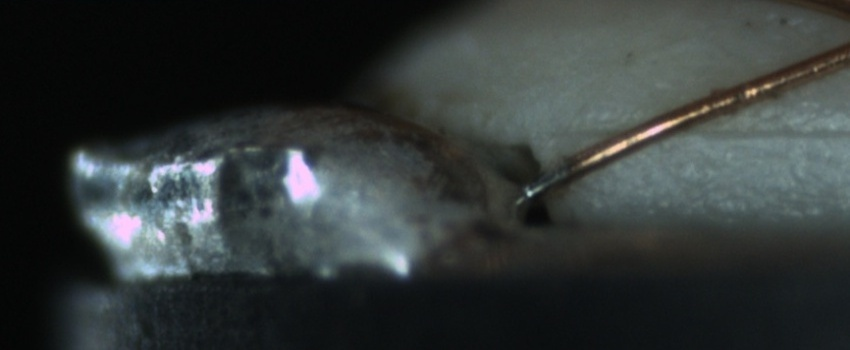DL: (596, 97, 849, 165)
TS: (521, 164, 568, 201)
